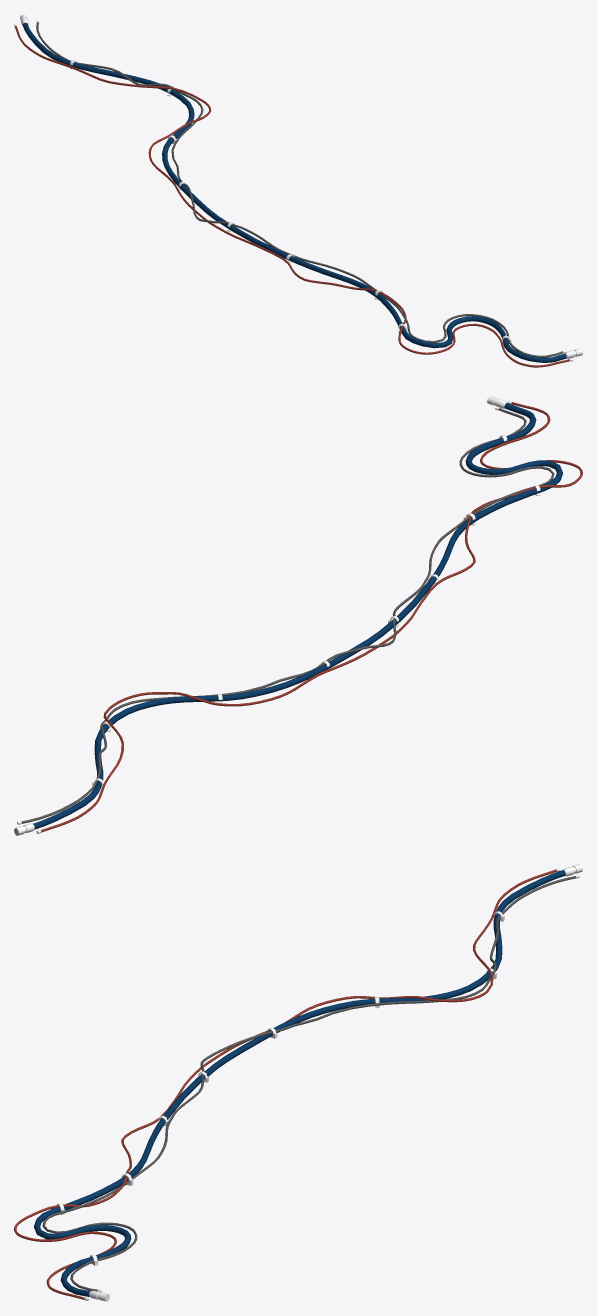
3 views of the same model, one above another, from view 1: azimuth 30°, elevation 25°; view 2: azimuth 150°, elevation 25°; view 3: azimuth 330°, elevation 25° (orthographic). The views are drawn at different scales.
Visible parts, largest first — view 1: SM_H_Gibraltar_Props_Cable_Rubber_01B; view 2: SM_H_Gibraltar_Props_Cable_Rubber_01B; view 3: SM_H_Gibraltar_Props_Cable_Rubber_01B.
Boxes of the visible parts, x1,y1,x2,y2 form: SM_H_Gibraltar_Props_Cable_Rubber_01B: (14, 14, 582, 367); SM_H_Gibraltar_Props_Cable_Rubber_01B: (14, 396, 582, 835); SM_H_Gibraltar_Props_Cable_Rubber_01B: (14, 864, 582, 1301).
Bounding box in the file's own units: 319 × 56.69 × 3.35.
